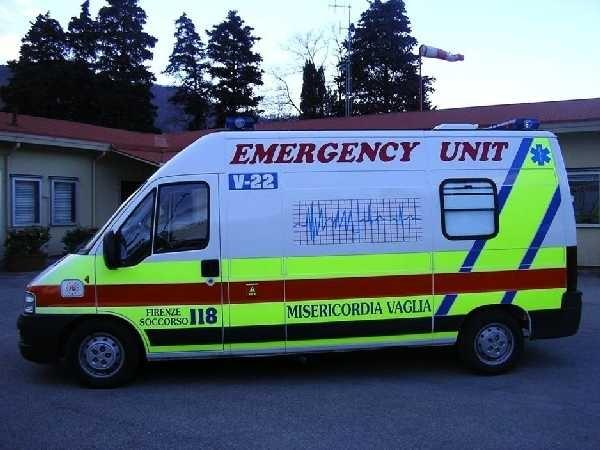car: (16, 116, 582, 387)
